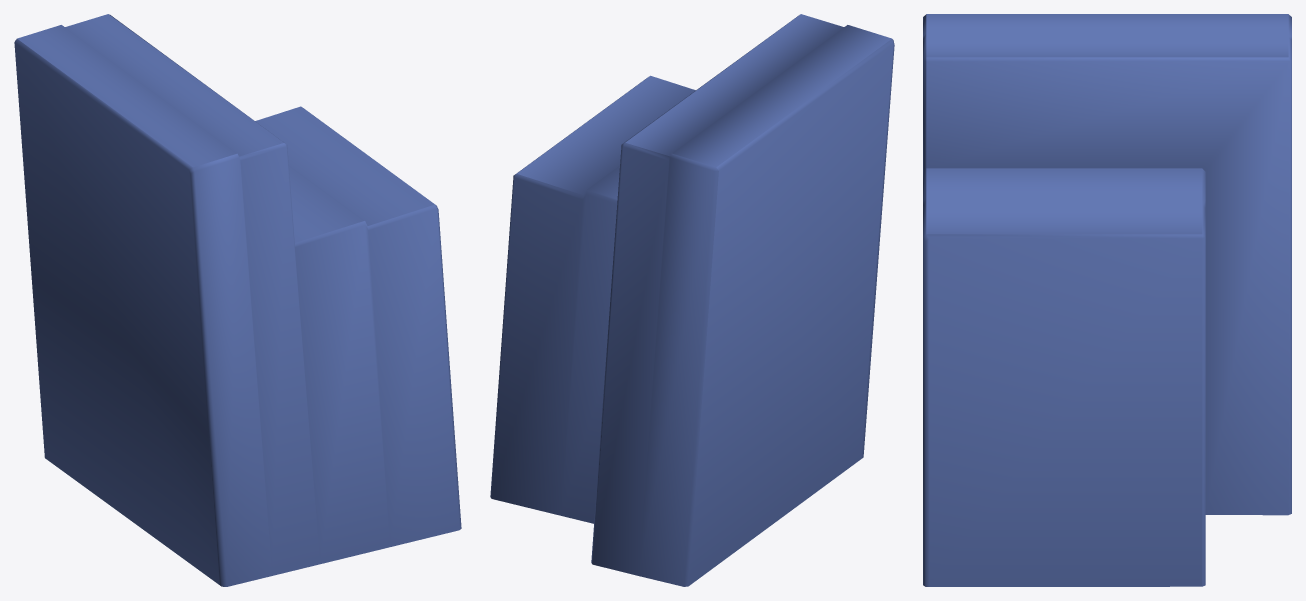
The model's file is Books_E.FBX.
The picture shows the model from 3 angles, left to right: view 1: azimuth 30°, elevation 25°; view 2: azimuth 150°, elevation 25°; view 3: azimuth 270°, elevation 25°; orthographic projection. The views are drawn at different scales.
Visible parts, largest first — view 1: Books_E; view 2: Books_E; view 3: Books_E.
Part boxes in pixels (x1,y1,x2,y2): Books_E: (14,14,461,586); Books_E: (490,14,894,586); Books_E: (923,14,1291,586).
Bounding box in the file's own units: 17.53 × 26.58 × 20.11.
